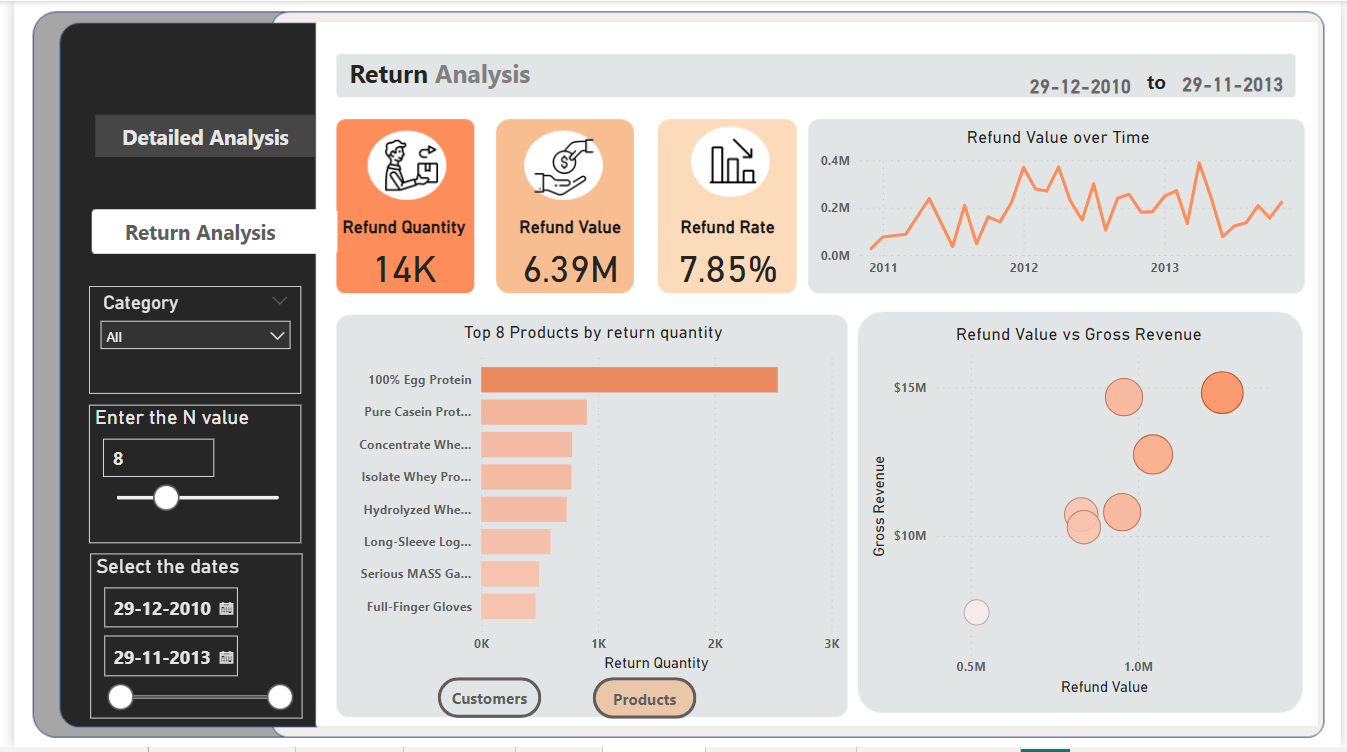

This screenshot's page, from the dashboard's own definition file:
{"tool":"powerbi","page":{"name":"Returns","canvas":[1280,720],"ordinal":4},"visuals":[{"type":"lineChart","title":"Refund Value over Time","fields":{"Category":["DimDates.Date.Variation.Date Hierarchy.Year","DimDates.Date.Variation.Date Hierarchy.Quarter","DimDates.Date.Variation.Date Hierarchy.Month","DimDates.Date.Variation.Date Hierarchy.Day"],"Y":["MeasuresTable.Refund Value"]},"box":[773.1,120.6,469.1,154.4],"z":0},{"type":"scatterChart","title":"Refund Value vs Gross Revenue","fields":{"X":["MeasuresTable.Refund Value"],"Y":["MeasuresTable.Gross Revenue"],"Category":["DimDates.Day Name"],"Size":["MeasuresTable.Return_Quantity"]},"box":[821.3,311.2,412.5,363],"z":1000},{"type":"card","title":"Refund Value","fields":{"Values":["MeasuresTable.Refund Value"]},"box":[452.3,207.4,168.8,77.2],"z":2000},{"type":"card","title":"Refund Quantity","fields":{"Values":["MeasuresTable.Return_Quantity"]},"box":[287,207.4,178.5,77.2],"z":3000},{"type":"card","title":"Refund Rate","fields":{"Values":["MeasuresTable.Refund Rate"]},"box":[604.2,207.4,168.8,77.2],"z":4000},{"type":"clusteredBarChart","fields":{"Category":["DimProducts.ProductName"],"Y":["MeasuresTable.Products Rank"]},"box":[316,308.7,486,343.7],"z":5000},{"type":"slicer","title":"Enter the N value","fields":{"Values":["Customer_input.Customer_input"]},"box":[72.4,389.5,205,133.9],"z":6000},{"type":"actionButton","title":"Products Btn Active","box":[558.8,652,100.1,40.3],"z":8000},{"type":"actionButton","title":"Customers Btn Inactive","box":[408.8,653,99.7,39],"z":9000},{"type":"actionButton","box":[78,200.8,202.3,40.5],"z":12000},{"type":"actionButton","box":[78,109.8,212.4,40.5],"z":13000},{"type":"slicer","title":"Select the dates","fields":{"Values":["DimDates.Date"]},"box":[73.6,533.1,205,159.2],"z":14000},{"type":"textbox","box":[317.8,47.7,333.7,44.8],"z":15000},{"type":"card","fields":{"Values":["Min(DimDates.Date)"]},"box":[958.7,65,140.1,34.7],"z":16000},{"type":"card","fields":{"Values":["Max(DimDates.Date)"]},"box":[1106.1,63.6,140.1,34.7],"z":17000},{"type":"textbox","box":[1087.9,60.7,49.1,43.3],"z":18000},{"type":"slicer","fields":{"Values":["DimCategory.CategoryName"]},"box":[72.4,275,205,103.7],"z":18001}]}

Visuals, with their boxes on the page's 1280x720 design canvas (x1, y1, x2, y2). These are canvas units, not pixel positions in the 1347x752 screenshot, which may show the page scaled, cropped or inside an application window:
"Refund Value over Time" lineChart: detection(773, 121, 1242, 275)
"Refund Value vs Gross Revenue" scatterChart: detection(821, 311, 1234, 674)
"Refund Value" card: detection(452, 207, 621, 285)
"Refund Quantity" card: detection(287, 207, 466, 285)
"Refund Rate" card: detection(604, 207, 773, 285)
clusteredBarChart - DimProducts.ProductName x MeasuresTable.Products Rank: detection(316, 309, 802, 652)
"Enter the N value" slicer: detection(72, 390, 277, 523)
"Products Btn Active" actionButton: detection(559, 652, 659, 692)
"Customers Btn Inactive" actionButton: detection(409, 653, 508, 692)
actionButton: detection(78, 201, 280, 241)
actionButton: detection(78, 110, 290, 150)
"Select the dates" slicer: detection(74, 533, 279, 692)
textbox: detection(318, 48, 652, 92)
card - Min(DimDates.Date): detection(959, 65, 1099, 100)
card - Max(DimDates.Date): detection(1106, 64, 1246, 98)
textbox: detection(1088, 61, 1137, 104)
slicer - DimCategory.CategoryName: detection(72, 275, 277, 379)
